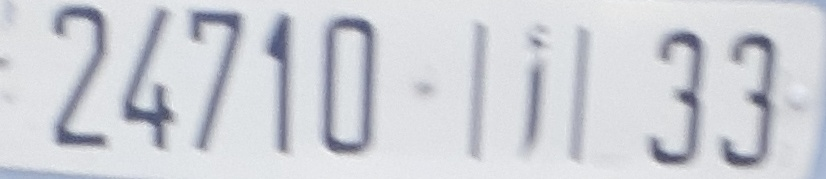0: (319, 12, 381, 159)
1: (259, 10, 295, 159)
2: (49, 1, 115, 153)
3: (719, 31, 781, 171), (646, 27, 705, 168)
4: (121, 5, 181, 155)
7: (187, 7, 244, 156)
a: (518, 19, 553, 162)
